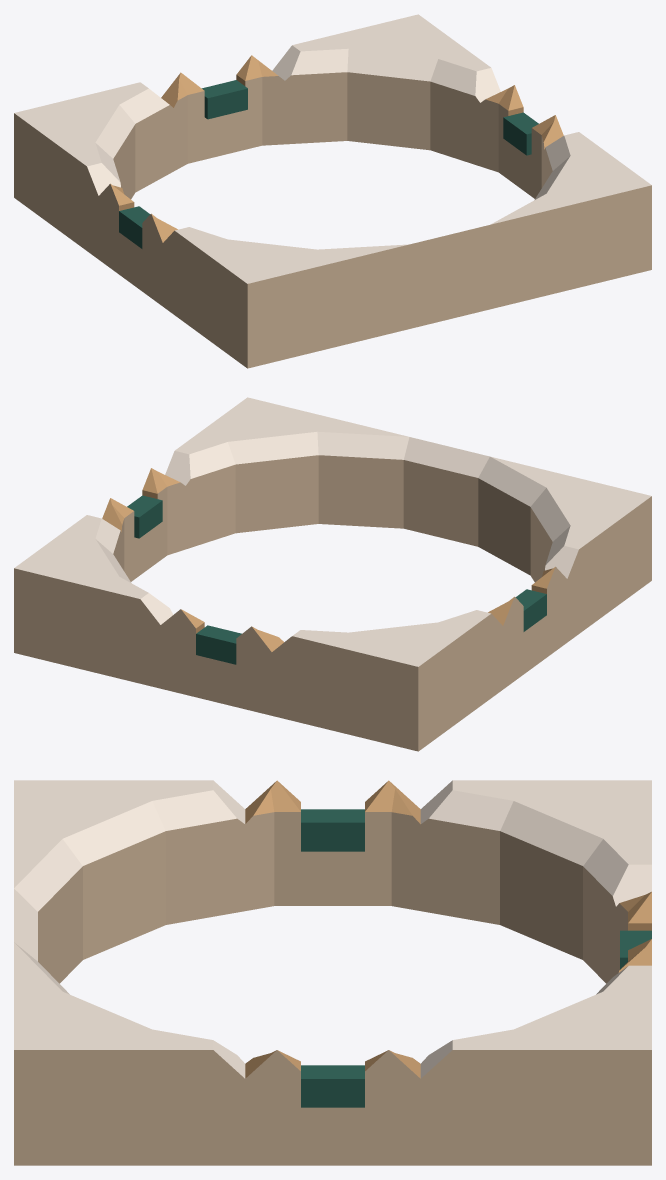
The model's file is Puzzle_Floor_Conduit_Rotating_Housing_TJoint.fbx.
3 views of the same model, one above another, from view 1: azimuth 30°, elevation 25°; view 2: azimuth 150°, elevation 25°; view 3: azimuth 270°, elevation 25° (orthographic). The views are drawn at different scales.
Parts seen in each view (by area): view 1: Sandstone_Trim.Sandstone_Trim.Sandstone_Trim.Sandstone_Trim., Sandstone_Floor.Sandstone_Floor.Sandstone_Floor.Sandstone_Fl, Sandstone_5.Sandstone_5.Sandstone_5.Sandstone_5.Sandstone_5., object1, object2, object3; view 2: Sandstone_Trim.Sandstone_Trim.Sandstone_Trim.Sandstone_Trim., Sandstone_Floor.Sandstone_Floor.Sandstone_Floor.Sandstone_Fl, Sandstone_5.Sandstone_5.Sandstone_5.Sandstone_5.Sandstone_5., object1, object2, object3; view 3: Sandstone_Trim.Sandstone_Trim.Sandstone_Trim.Sandstone_Trim., Sandstone_Floor.Sandstone_Floor.Sandstone_Floor.Sandstone_Fl, Sandstone_5.Sandstone_5.Sandstone_5.Sandstone_5.Sandstone_5., object2, object3, object1.
Part boxes in pixels (<box>): Sandstone_Trim.Sandstone_Trim.Sandstone_Trim.Sandstone_Trim.: <box>14,72,651,368</box>; Sandstone_Floor.Sandstone_Floor.Sandstone_Floor.Sandstone_Fl: <box>14,14,651,283</box>; Sandstone_5.Sandstone_5.Sandstone_5.Sandstone_5.Sandstone_5.: <box>110,55,563,242</box>; object1: <box>202,80,247,119</box>; object2: <box>503,112,538,155</box>; object3: <box>119,206,150,248</box>; Sandstone_Trim.Sandstone_Trim.Sandstone_Trim.Sandstone_Trim.: <box>14,455,651,751</box>; Sandstone_Floor.Sandstone_Floor.Sandstone_Floor.Sandstone_Fl: <box>14,397,651,666</box>; Sandstone_5.Sandstone_5.Sandstone_5.Sandstone_5.Sandstone_5.: <box>102,468,555,651</box>; object1: <box>196,625,241,664</box>; object2: <box>127,495,162,538</box>; object3: <box>515,589,546,631</box>; Sandstone_Trim.Sandstone_Trim.Sandstone_Trim.Sandstone_Trim.: <box>14,812,651,1165</box>; Sandstone_Floor.Sandstone_Floor.Sandstone_Floor.Sandstone_Fl: <box>14,780,651,1078</box>; Sandstone_5.Sandstone_5.Sandstone_5.Sandstone_5.Sandstone_5.: <box>245,780,651,1078</box>; object2: <box>301,1065,364,1107</box>; object3: <box>301,809,364,851</box>; object1: <box>620,930,651,969</box>.
Size of the model in its own units: 1 by 0.2 by 1.
